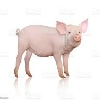heo: (13, 18, 90, 80)
